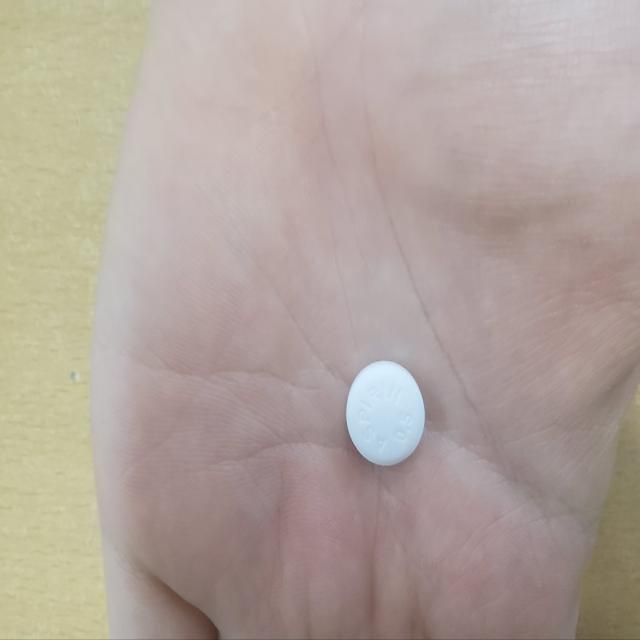-: (336, 339, 438, 483)
